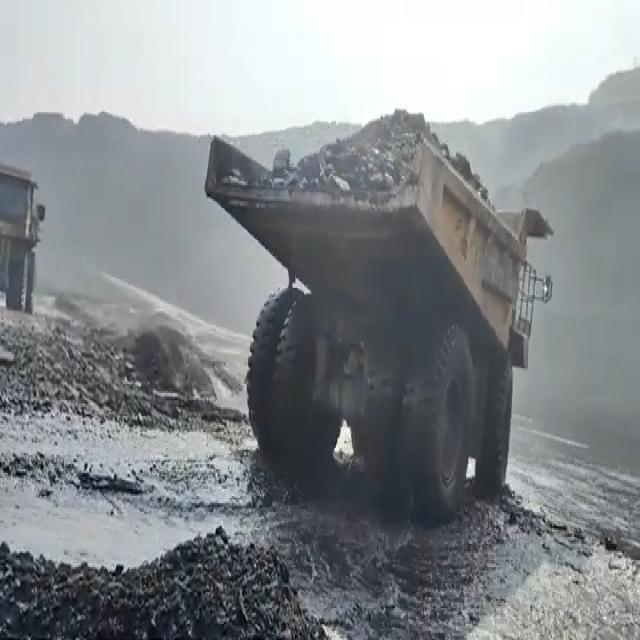dump_truck: (208, 88, 557, 510), (0, 155, 38, 316)
